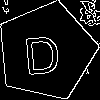D: (21, 26, 63, 75)
